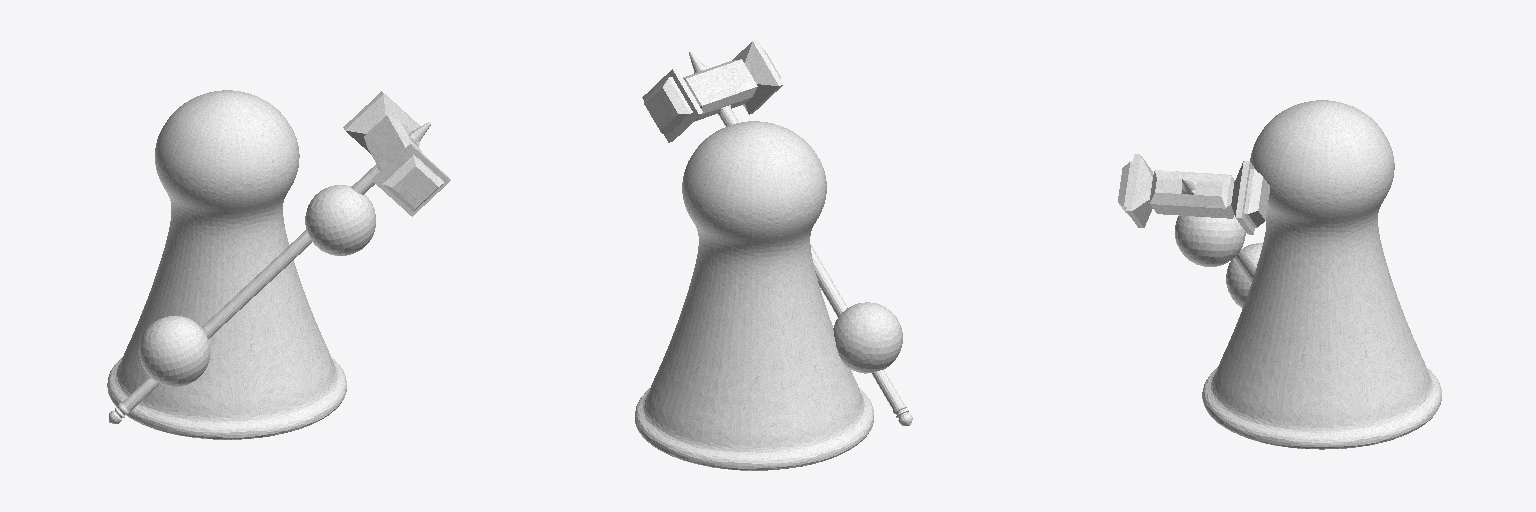
3 views of the same model, side by side, from view 1: azimuth 30°, elevation 25°; view 2: azimuth 150°, elevation 25°; view 3: azimuth 270°, elevation 25° (orthographic).
Visible parts, largest first — view 1: Body, Warhammer, Hand1, Hand2_Hand1.001; view 2: Body, Warhammer, Hand1; view 3: Body, Warhammer, Hand2_Hand1.001, Hand1.
Part boxes in pixels (x1,y1,x2,y2): Body: (107, 90, 346, 439); Warhammer: (109, 91, 450, 423); Hand1: (139, 316, 209, 386); Hand2_Hand1.001: (305, 185, 375, 255); Body: (635, 121, 873, 470); Warhammer: (642, 40, 912, 425); Hand1: (833, 302, 902, 373); Body: (1202, 100, 1441, 449); Warhammer: (1118, 154, 1269, 283); Hand2_Hand1.001: (1175, 215, 1245, 266); Hand1: (1226, 243, 1262, 308).
Bounding box in the file's own units: 0.9344 × 0.9159 × 0.9054.
Materials: 1 (1 with a texture image).